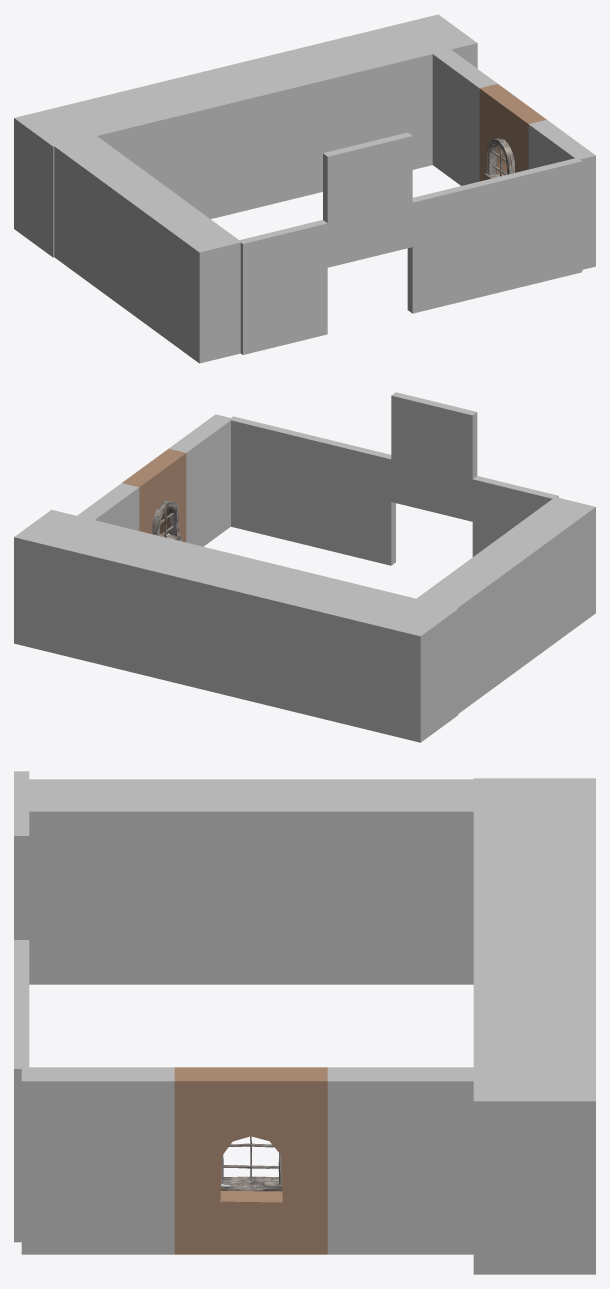
File: FullWall.fbx
3 views of the same model, one above another, from view 1: azimuth 30°, elevation 25°; view 2: azimuth 150°, elevation 25°; view 3: azimuth 270°, elevation 25° (orthographic). The views are drawn at different scales.
Parts seen in each view (by area): view 1: Wall__17_, Wall__16_, Wall__4_, Wall__9_, Wall__8_, Wall__20_, Wall__18_, Wall__3_, Wall__21_, Wall__10_, Wall__15_, Wall__19_ (+3 smaller); view 2: Wall__21_, Wall__20_, Wall__18_, Wall__17_, Wall__19_, Wall__9_, Wall__4_, Wall__3_, Wall__16_, Wall__10_, Wall__15_, Wall__1_ (+3 smaller); view 3: Wall__10_, Wall__15_, Wall__16_, Wall__19_, Wall__1_, Wall__2_, Window, Wall__20_, Wall__18_, Wall__17_, Wall__21_, Wall__9_ (+2 smaller).
Part boxes in pixels (box(x1,y1,x2,y2)): Wall__17_: box(184, 56, 307, 215); Wall__16_: box(150, 206, 241, 363); Wall__4_: box(407, 178, 497, 313); Wall__9_: box(323, 132, 412, 267); Wall__8_: box(239, 220, 327, 354); Wall__20_: box(99, 76, 223, 219); Wall__18_: box(268, 35, 392, 195); Wall__3_: box(493, 158, 582, 292); Wall__21_: box(14, 97, 137, 257); Wall__10_: box(101, 170, 191, 326); Wall__15_: box(52, 134, 143, 291); Wall__19_: box(354, 14, 477, 169); Wall__21_: box(339, 589, 458, 742); Wall__20_: box(257, 569, 376, 722); Wall__18_: box(95, 529, 213, 683); Wall__17_: box(176, 549, 295, 702); Wall__19_: box(14, 509, 132, 663); Wall__9_: box(391, 392, 477, 521); Wall__4_: box(310, 436, 395, 565); Wall__3_: box(231, 416, 314, 545); Wall__16_: box(508, 497, 595, 647); Wall__10_: box(462, 531, 548, 681); Wall__15_: box(414, 565, 501, 713); Wall__1_: box(169, 414, 232, 546); Wall__10_: box(174, 779, 327, 984); Wall__15_: box(326, 779, 481, 984); Wall__16_: box(29, 779, 175, 984); Wall__19_: box(473, 1036, 595, 1274); Wall__1_: box(21, 1067, 174, 1254); Wall__2_: box(327, 1067, 480, 1254); Window: box(174, 1067, 327, 1254); Wall__20_: box(473, 842, 595, 907); Wall__18_: box(473, 972, 595, 1036); Wall__17_: box(473, 907, 595, 971); Wall__21_: box(473, 778, 595, 842); Wall__9_: box(14, 771, 29, 939).
Size of the model in its own units: 1000 by 400 by 761.
